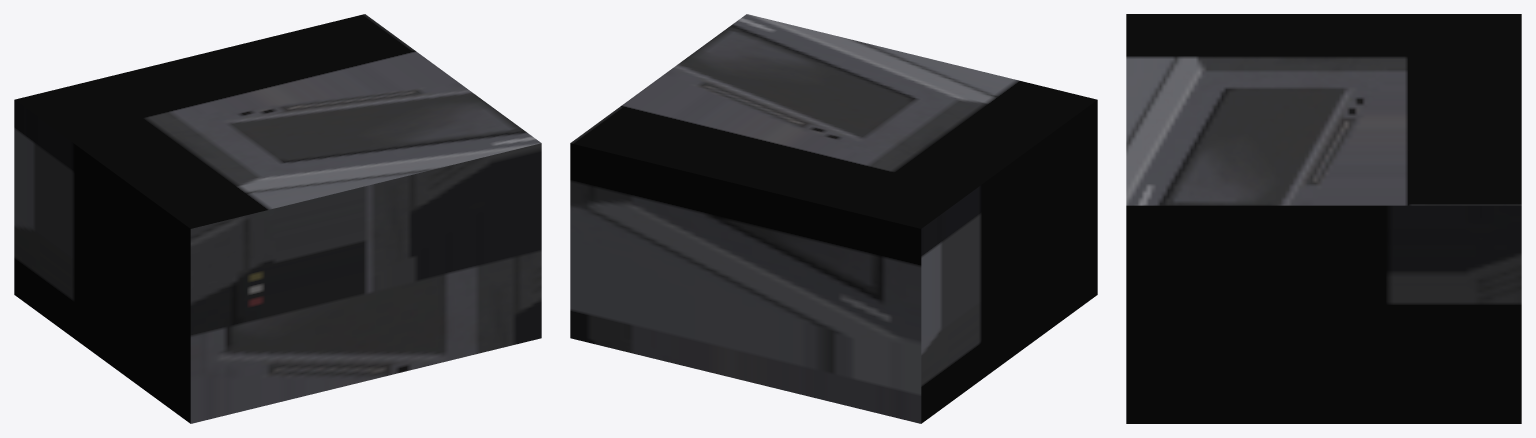
File: pz_house_tv_value.obj
3 renders of one model, left to right at view 1: azimuth 30°, elevation 25°; view 2: azimuth 150°, elevation 25°; view 3: azimuth 270°, elevation 25°, orthographic. The views are drawn at different scales.
Visible parts, largest first — view 1: pz_house_tv_value_|_1_parte_1; view 2: pz_house_tv_value_|_1_parte_1; view 3: pz_house_tv_value_|_1_parte_1.
Boxes of the visible parts, bbox=[...] form: pz_house_tv_value_|_1_parte_1: bbox=[14, 14, 541, 423]; pz_house_tv_value_|_1_parte_1: bbox=[570, 14, 1097, 423]; pz_house_tv_value_|_1_parte_1: bbox=[1126, 14, 1521, 423].
Bounding box in the file's own units: 0.7337 × 0.3899 × 0.639.
